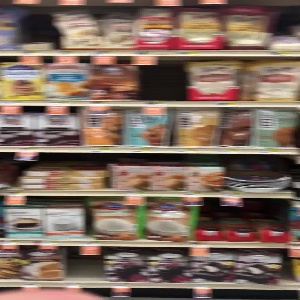void: (136, 54, 184, 103), (70, 243, 102, 282)
